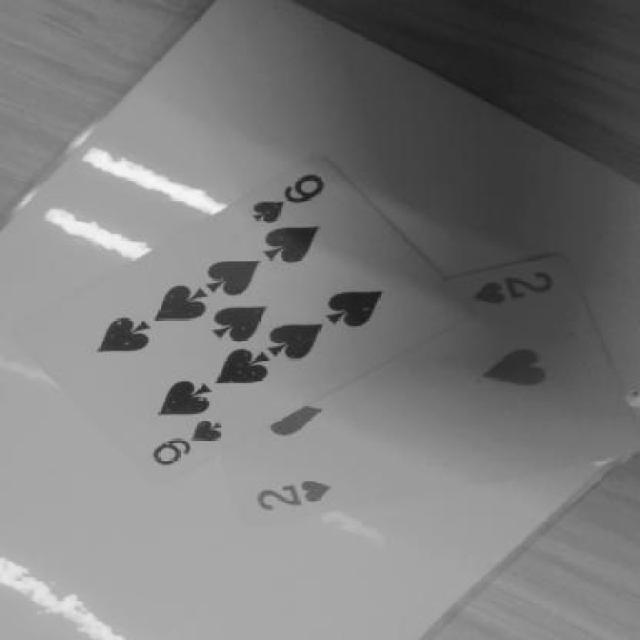2H: (455, 258, 574, 336), (228, 466, 357, 520)
9S: (223, 156, 346, 238), (138, 408, 244, 480)
